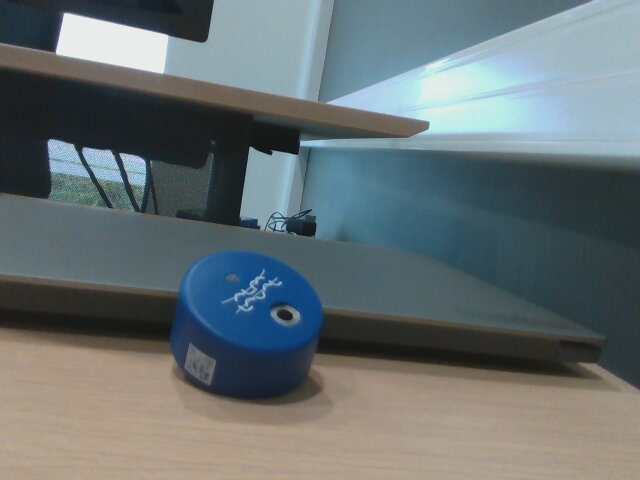alfa: (164, 247, 332, 405)
